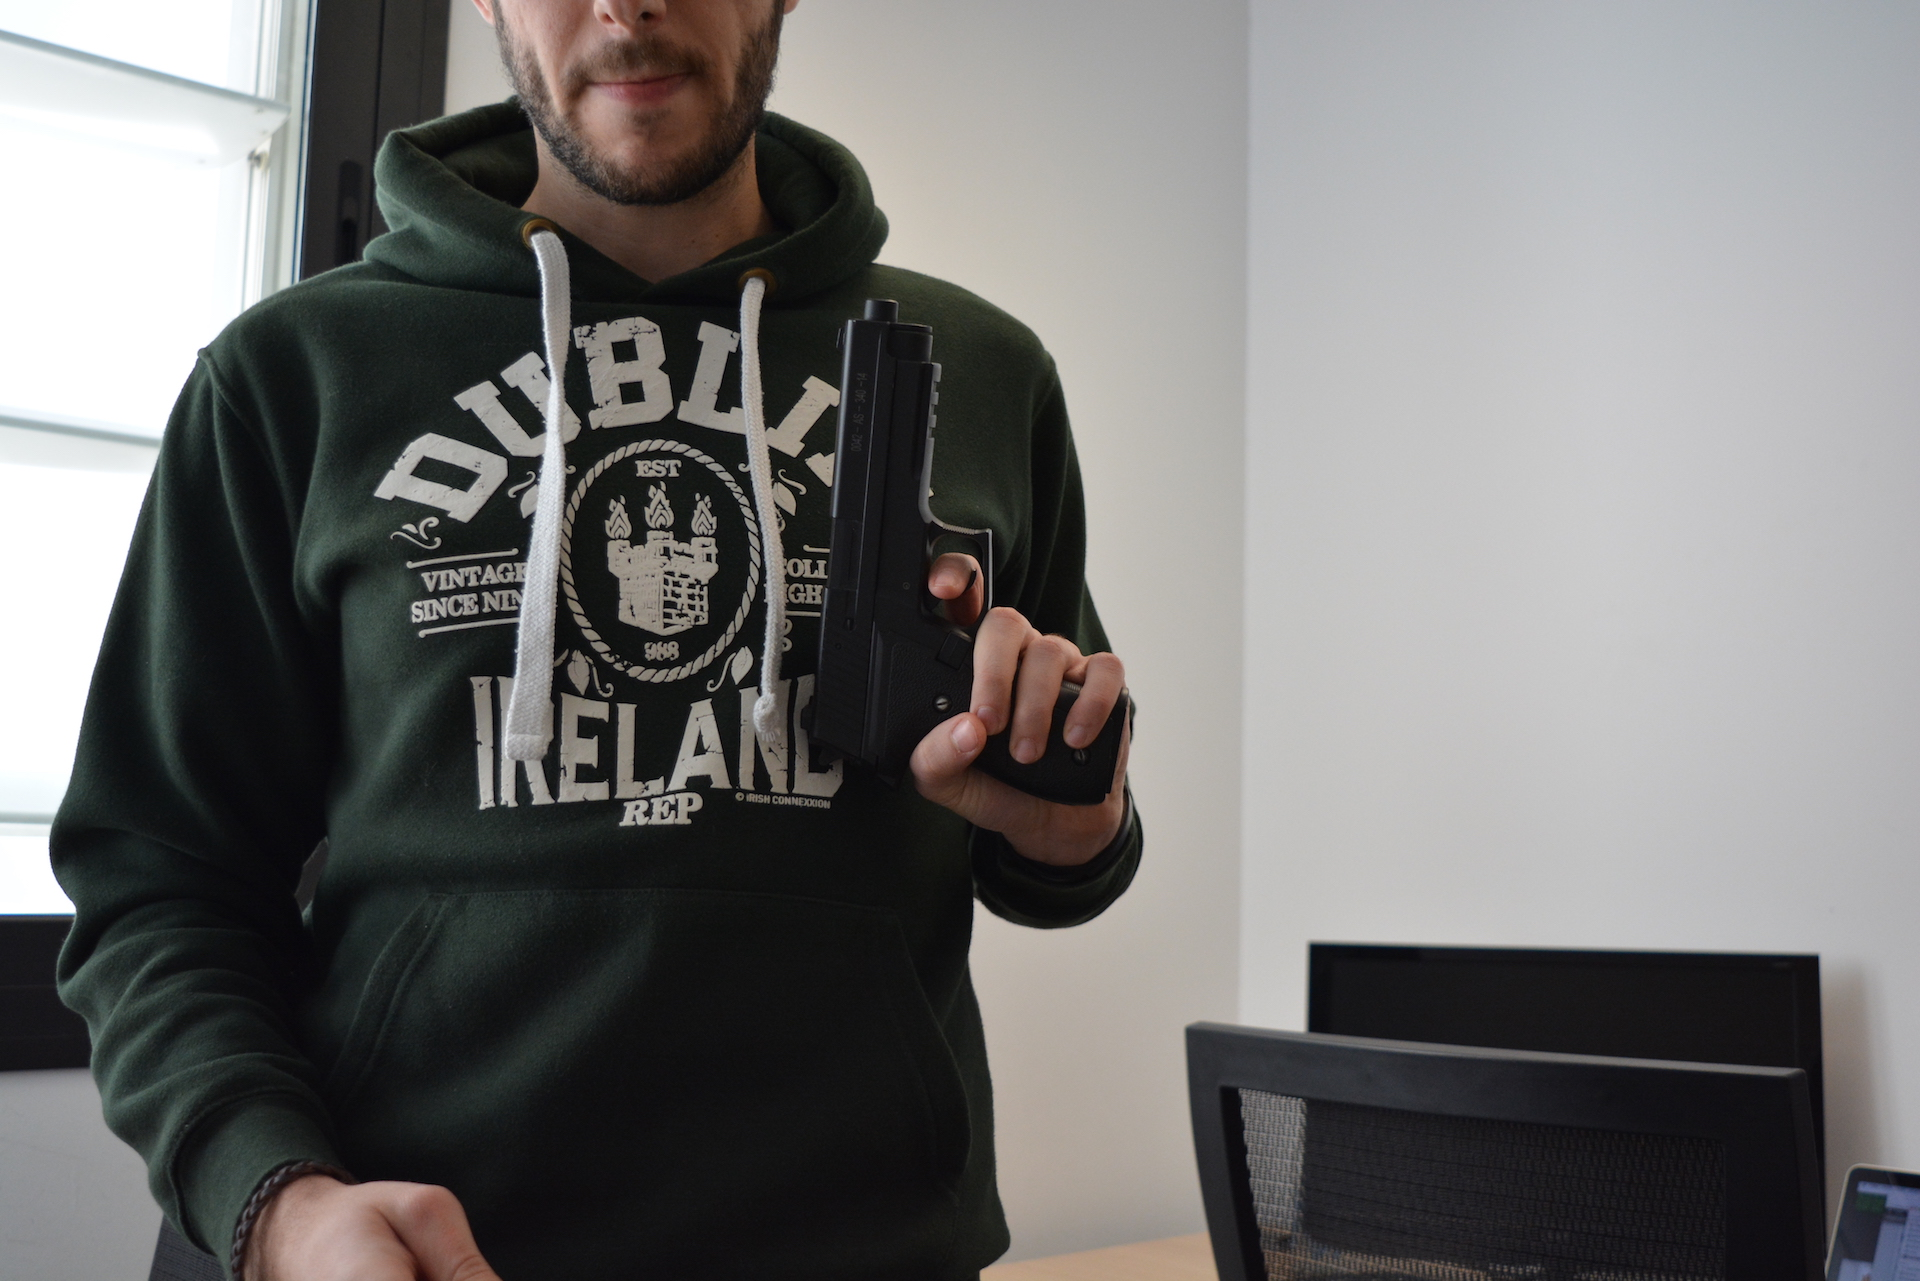pistol: (798, 295, 1134, 812)
